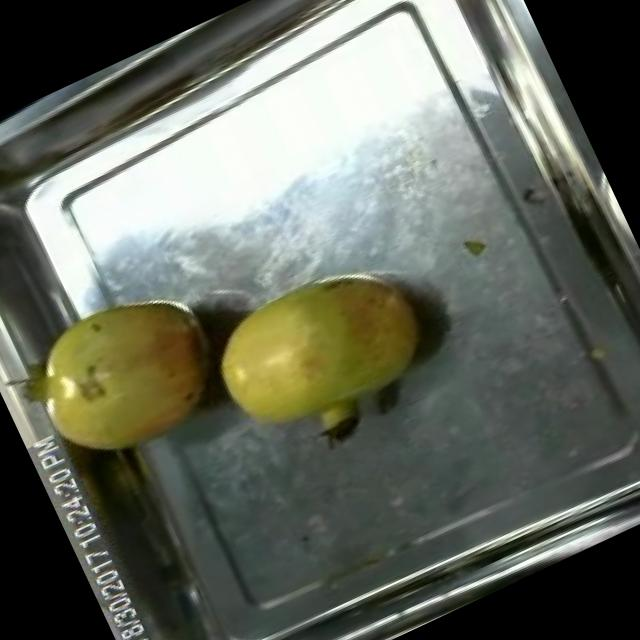fruit: (184, 228, 466, 480), (4, 261, 254, 491)
